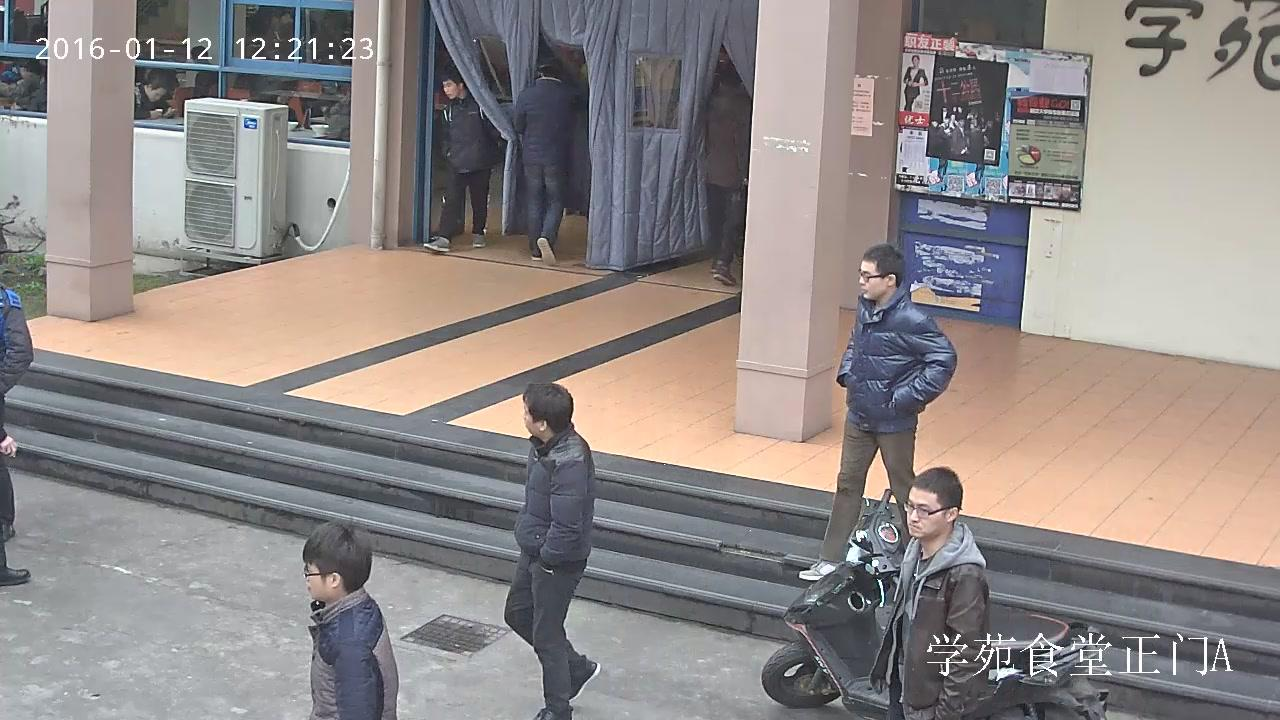person: (798, 243, 956, 582), (503, 381, 600, 720), (869, 466, 988, 720), (301, 517, 398, 718), (423, 72, 500, 252), (514, 61, 578, 262), (703, 60, 751, 284), (0, 285, 33, 539), (133, 67, 174, 117), (0, 60, 39, 108), (189, 47, 218, 98), (904, 55, 927, 111)
